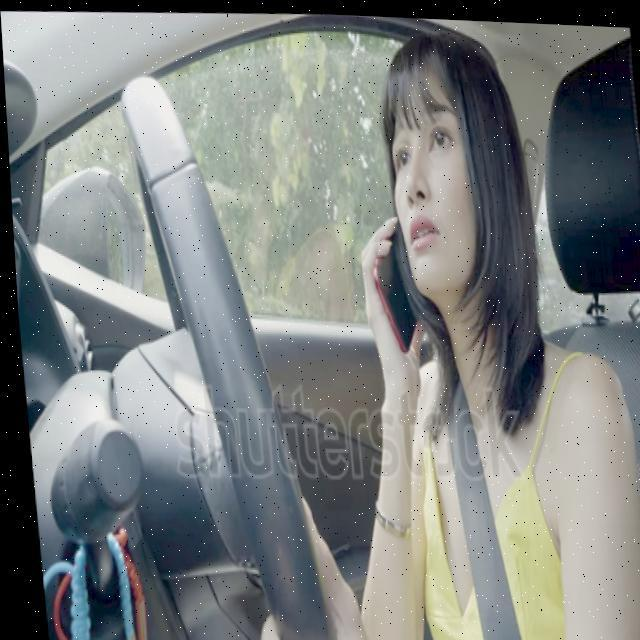PhoneCall: (362, 204, 428, 354)
